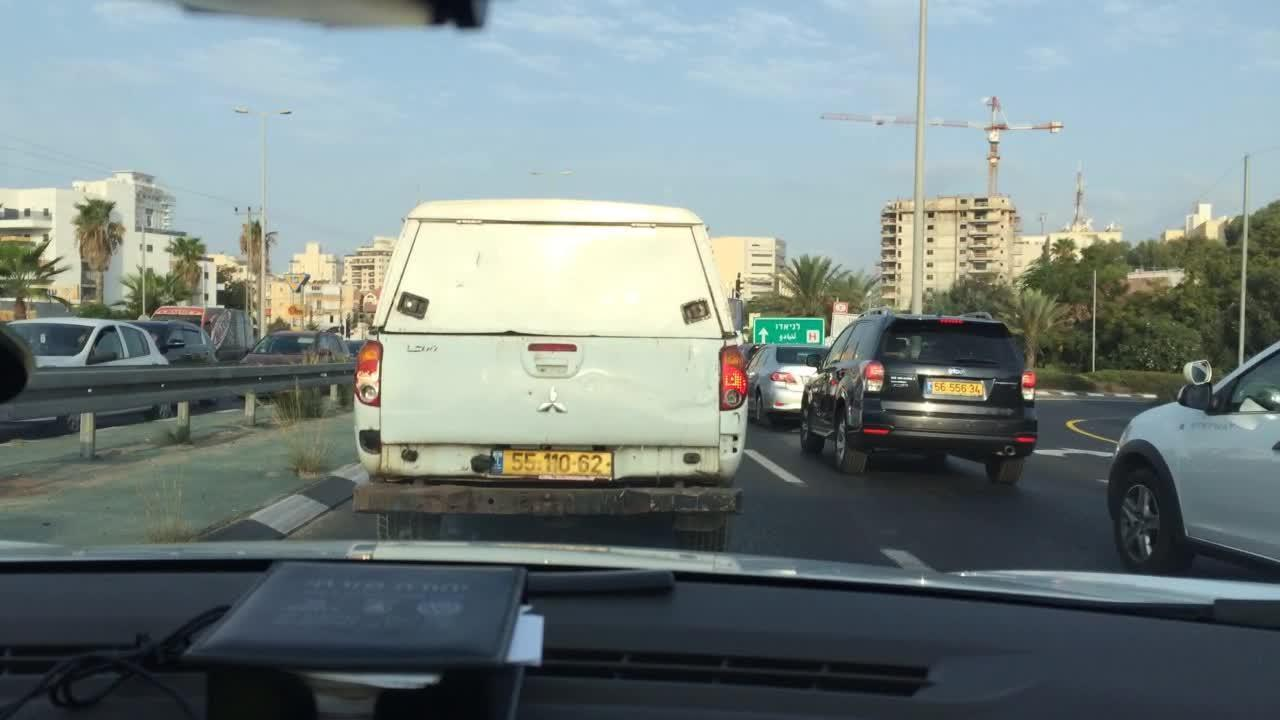Mitsubishi: (532, 382, 568, 420)
